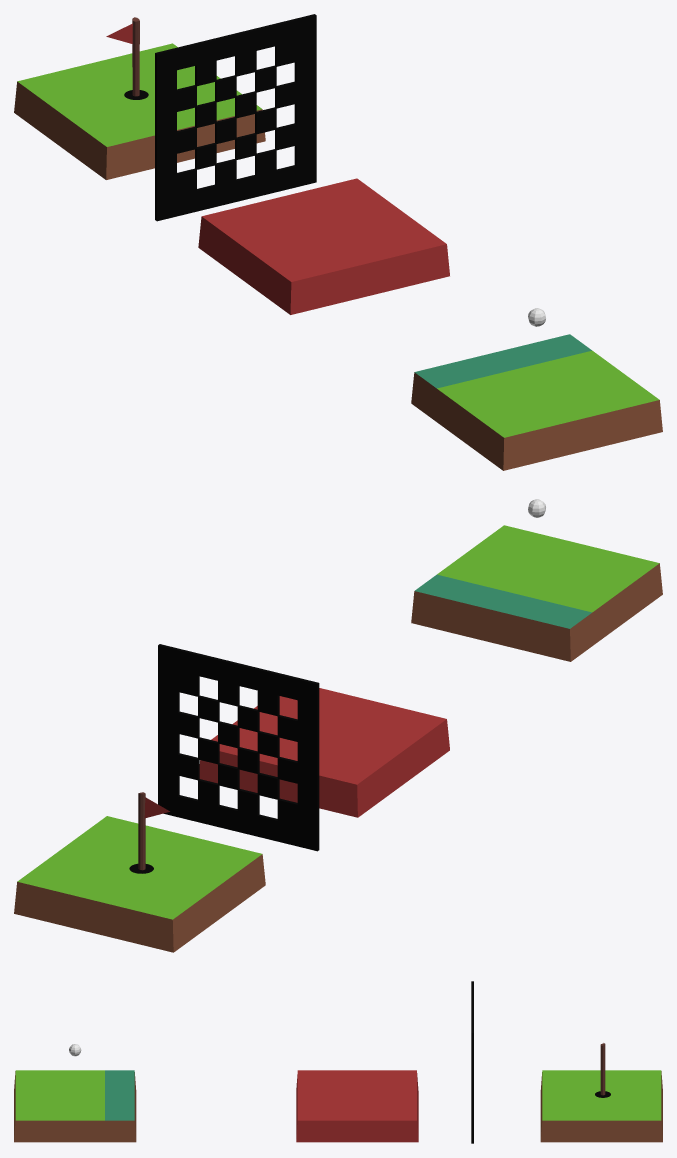
File: level7.glb
3 renders of one model, top to bottom at view 1: azimuth 30°, elevation 25°; view 2: azimuth 150°, elevation 25°; view 3: azimuth 270°, elevation 25°, orthographic. The views are drawn at different scales.
Visible parts, largest first — view 1: basic-moveable.001, bouncepad, basic-fixed.002, basic-fixed.001, flag; view 2: basic-moveable.001, basic-fixed.001, basic-fixed.002, bouncepad, flag; view 3: bouncepad, basic-moveable.001, basic-fixed.001, basic-fixed.002, flag.
Part boxes in pixels (box(x1,y1,x2,y2)): basic-moveable.001: box(411, 334, 662, 470); bouncepad: box(198, 178, 449, 314); basic-fixed.002: box(155, 14, 316, 221); basic-fixed.001: box(14, 43, 265, 179); flag: box(106, 17, 148, 99); basic-moveable.001: box(411, 525, 662, 661); basic-fixed.001: box(14, 816, 265, 952); basic-fixed.002: box(158, 644, 319, 851); bouncepad: box(199, 688, 449, 817); flag: box(129, 792, 169, 873); bouncepad: box(296, 1070, 418, 1142); basic-moveable.001: box(14, 1070, 136, 1142); basic-fixed.001: box(540, 1070, 662, 1142); basic-fixed.002: box(471, 981, 473, 1143); flag: box(595, 1043, 610, 1097).
Size of the model in its own units: 2.02 by 2 by 10.62.
Materials: 5 (5 with a texture image).
